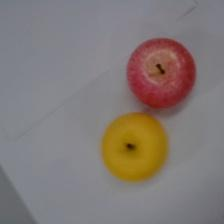red: (126, 36, 196, 109)
yellow: (100, 111, 168, 183)
